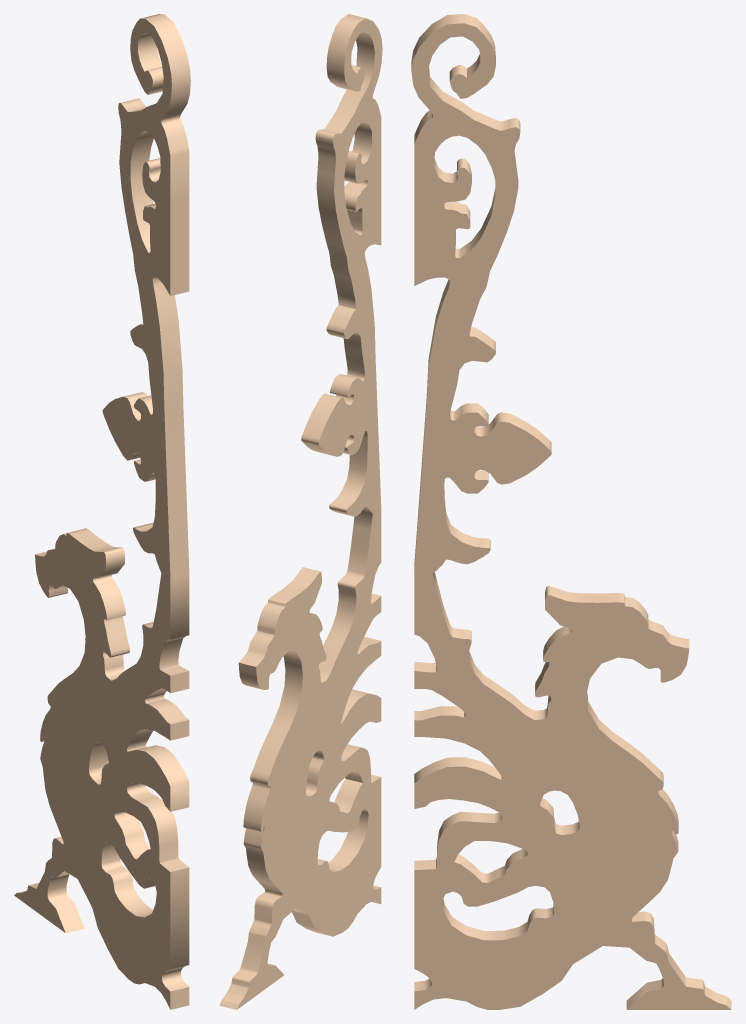
The model's file is doorside.fbx.
3 views of the same model, side by side, from view 1: azimuth 30°, elevation 25°; view 2: azimuth 150°, elevation 25°; view 3: azimuth 270°, elevation 25° (orthographic). The views are drawn at different scales.
Visible parts, largest first — view 1: piece21.001; view 2: piece21.001; view 3: piece21.001.
Part boxes in pixels (x1=…): piece21.001: x1=14, y1=14, x2=190, y2=1009; piece21.001: x1=219, y1=14, x2=382, y2=1009; piece21.001: x1=411, y1=14, x2=731, y2=1009.
Size of the model in its own units: 2.32 by 114 by 33.49.
